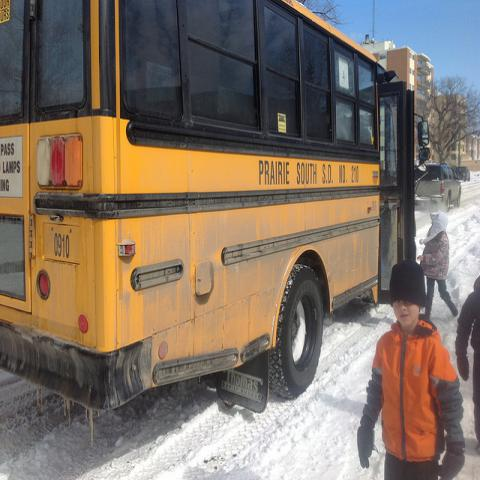bus: (2, 1, 428, 415)
car: (414, 162, 462, 212), (455, 167, 471, 181)
